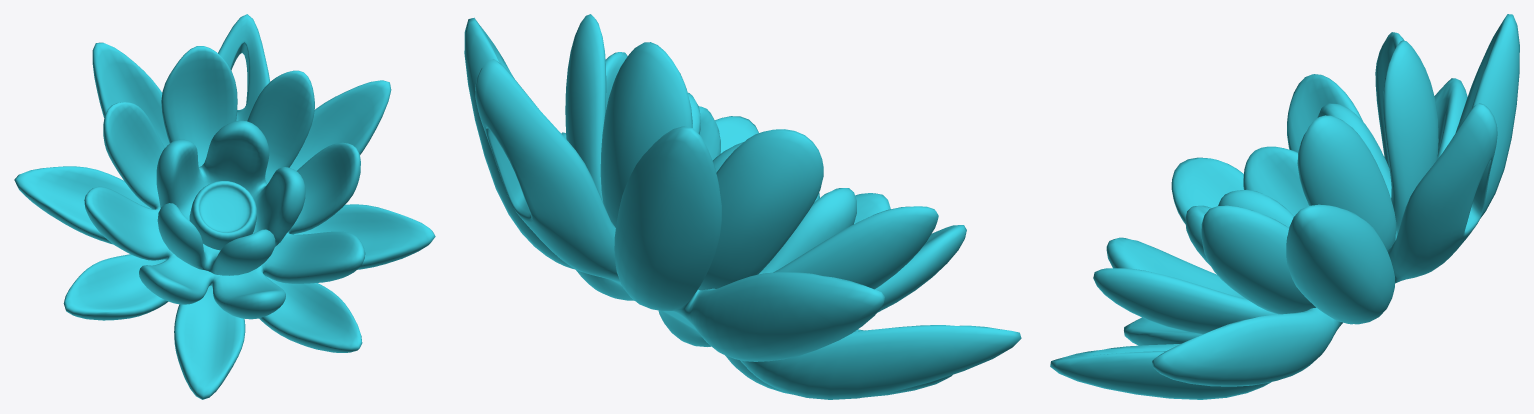
Rendered from lotus.glb.
3 renders of one model, left to right at view 1: azimuth 30°, elevation 25°; view 2: azimuth 150°, elevation 25°; view 3: azimuth 270°, elevation 25°, orthographic. The views are drawn at different scales.
Visible parts, largest first — view 1: 18366_Hinduism-Lotus_Flower_V1; view 2: 18366_Hinduism-Lotus_Flower_V1; view 3: 18366_Hinduism-Lotus_Flower_V1.
Boxes of the visible parts, x1,y1,x2,y2 form: 18366_Hinduism-Lotus_Flower_V1: (14,14,435,399); 18366_Hinduism-Lotus_Flower_V1: (464,14,1021,399); 18366_Hinduism-Lotus_Flower_V1: (1050,14,1519,399).
Size of the model in its own units: 5.31 by 3.93 by 4.59.
